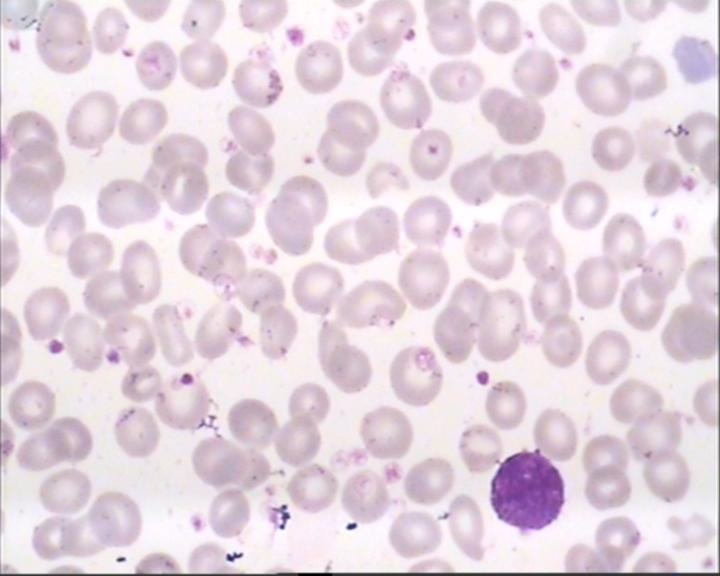baso: (484, 447, 569, 534)
